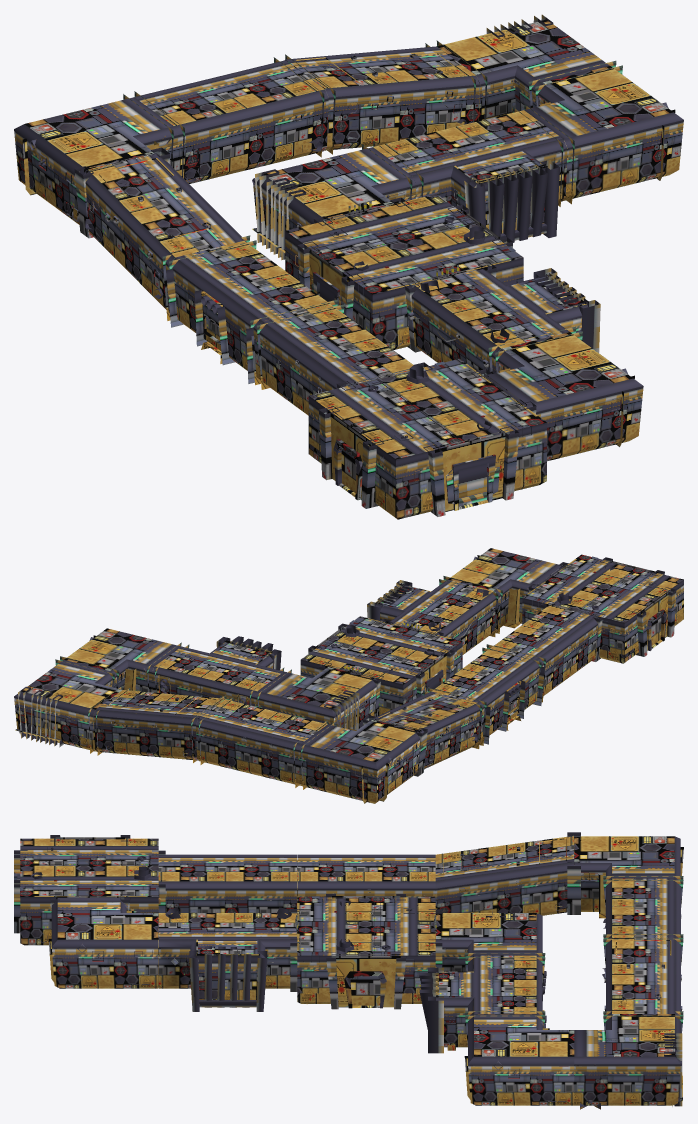
Rendered from Combined_Mesh_root_scene_b20ae4d5__zombies2_diffuse_04_b80f3c78_c1f257.obj.
3 renders of one model, top to bottom at view 1: azimuth 30°, elevation 25°; view 2: azimuth 150°, elevation 25°; view 3: azimuth 270°, elevation 25°, orthographic. The views are drawn at different scales.
Bounding box in the file's own units: 77.06 × 11.5 × 96.9.
Materials: 233 (233 with a texture image).
